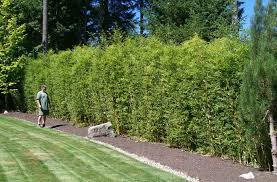bamboo: (154, 32, 264, 167), (112, 37, 155, 137), (55, 47, 105, 119), (25, 51, 48, 90)
